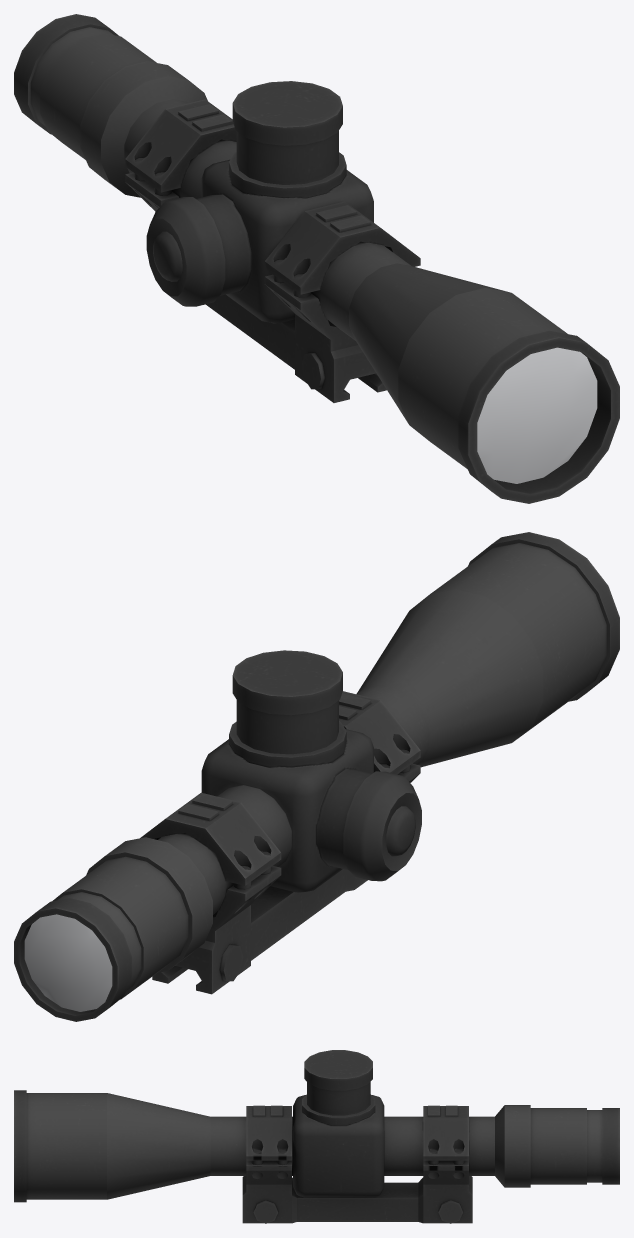
The model's file is scope_8x.fbx.
3 views of the same model, one above another, from view 1: azimuth 30°, elevation 25°; view 2: azimuth 150°, elevation 25°; view 3: azimuth 270°, elevation 25° (orthographic). The views are drawn at different scales.
Parts seen in each view (by area): view 1: ZRAK_LS_8x56_Sight_1.001, ZRAK_LS_8x56_Sight_1.002; view 2: ZRAK_LS_8x56_Sight_1.001, ZRAK_LS_8x56_Sight_1.002; view 3: ZRAK_LS_8x56_Sight_1.001.
Boxes of the visible parts, x1,y1,x2,y2 form: ZRAK_LS_8x56_Sight_1.001: (14, 14, 619, 503); ZRAK_LS_8x56_Sight_1.002: (477, 347, 597, 483); ZRAK_LS_8x56_Sight_1.001: (14, 532, 619, 1021); ZRAK_LS_8x56_Sight_1.002: (24, 914, 112, 1011); ZRAK_LS_8x56_Sight_1.001: (14, 1050, 619, 1223).
Size of the model in its own units: 37.5 by 42.7 by 157.
